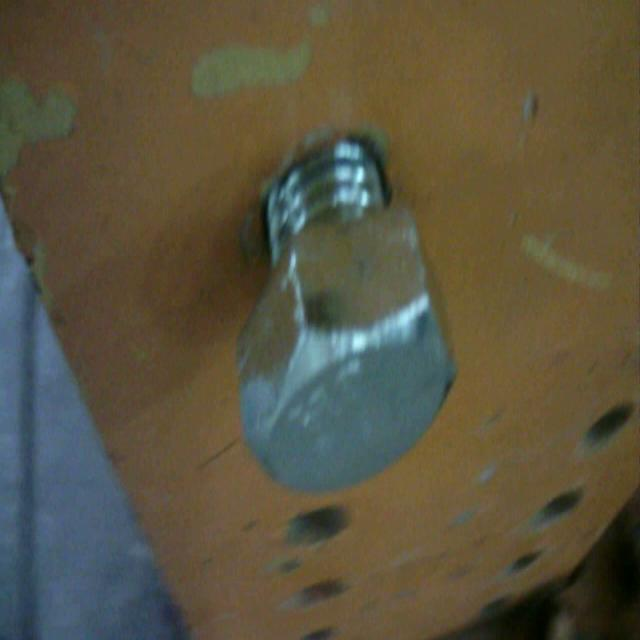Loose bolt: (232, 138, 460, 500)
Missing bolt: (287, 504, 347, 555), (582, 400, 634, 450), (537, 484, 583, 526), (290, 578, 346, 612), (514, 548, 544, 578), (302, 623, 334, 640)
Regular bolt: (230, 139, 467, 502)
